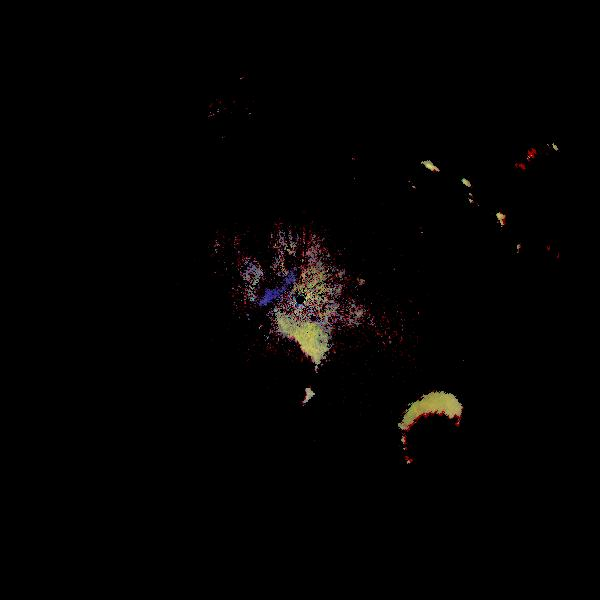roost: (382, 379, 511, 508), (242, 322, 341, 421)
